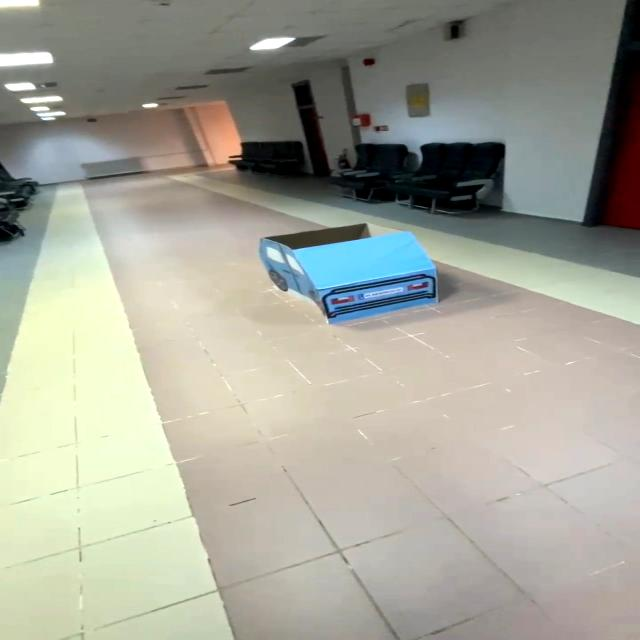blue_car: (201, 214, 480, 335)
